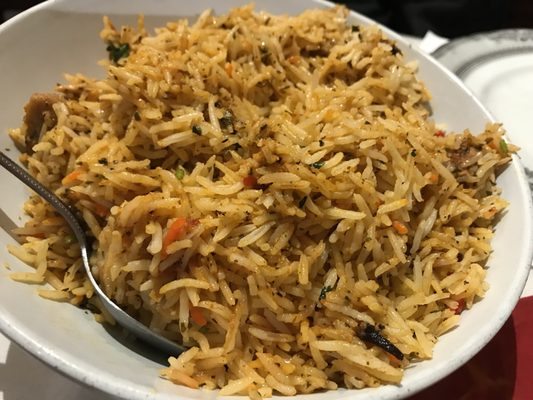salad: (1, 147, 185, 360)
sushi: (2, 1, 528, 399)
